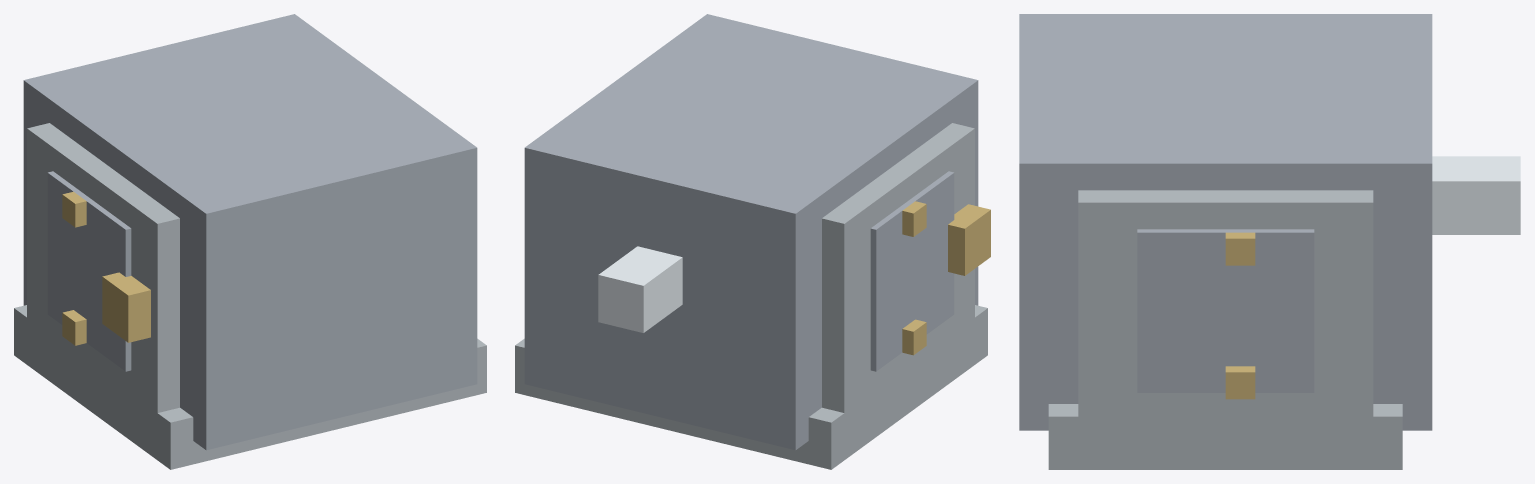
File: gearbox.obj
The picture shows the model from 3 angles, left to right: view 1: azimuth 30°, elevation 25°; view 2: azimuth 150°, elevation 25°; view 3: azimuth 270°, elevation 25°; orthographic projection. The views are drawn at different scales.
Parts seen in each view (by area): view 1: gearbox; view 2: gearbox; view 3: gearbox.
Boxes of the visible parts, box(x1,y1,x2,y2) form: gearbox: box(14, 14, 486, 469); gearbox: box(515, 14, 990, 469); gearbox: box(1019, 14, 1520, 469).
Bounding box in the file's own units: 0.9844 × 0.6875 × 1.06.
